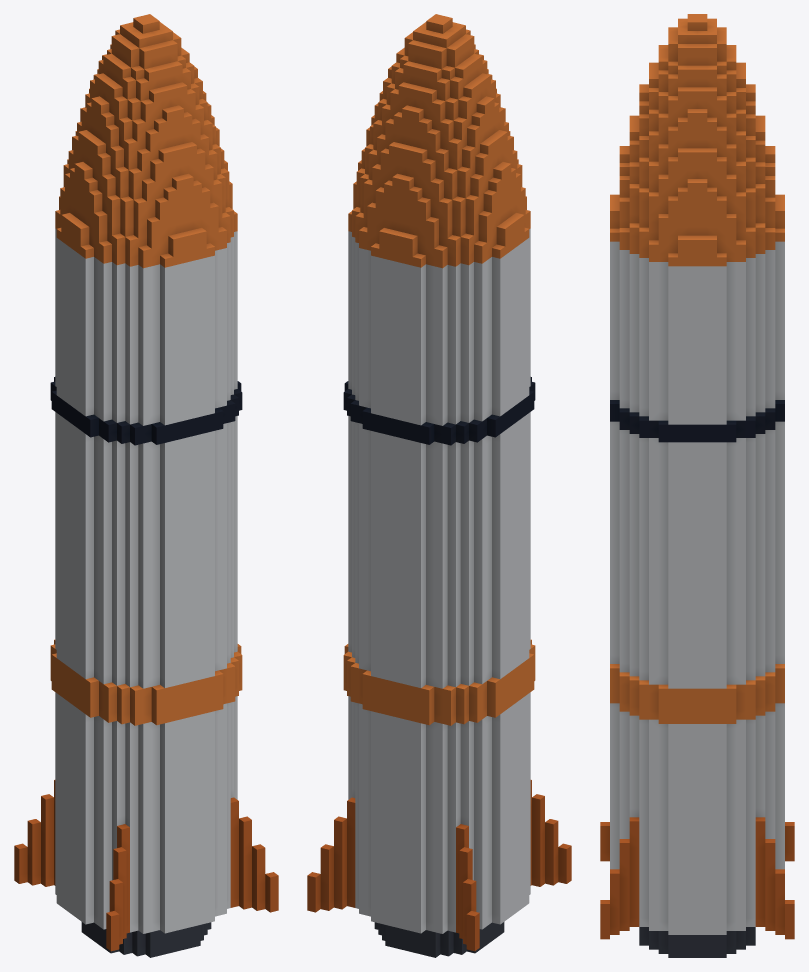
Rendered from rocket_v.glb.
3 views of the same model, side by side, from view 1: azimuth 30°, elevation 25°; view 2: azimuth 150°, elevation 25°; view 3: azimuth 270°, elevation 25° (orthographic).
Parts seen in each view (by area): view 1: Base; view 2: Base; view 3: Base.
Boxes of the visible parts, x1,y1,x2,y2 form: Base: (14, 14, 278, 957); Base: (307, 14, 571, 957); Base: (600, 14, 794, 957).
Bounding box in the file's own units: 2 × 10.4 × 2.
